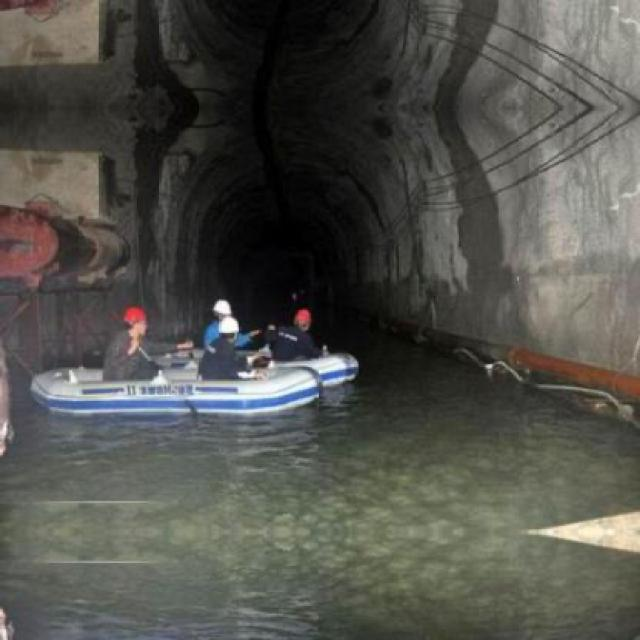con casco: (122, 300, 160, 338), (294, 292, 322, 331), (221, 309, 249, 347)
